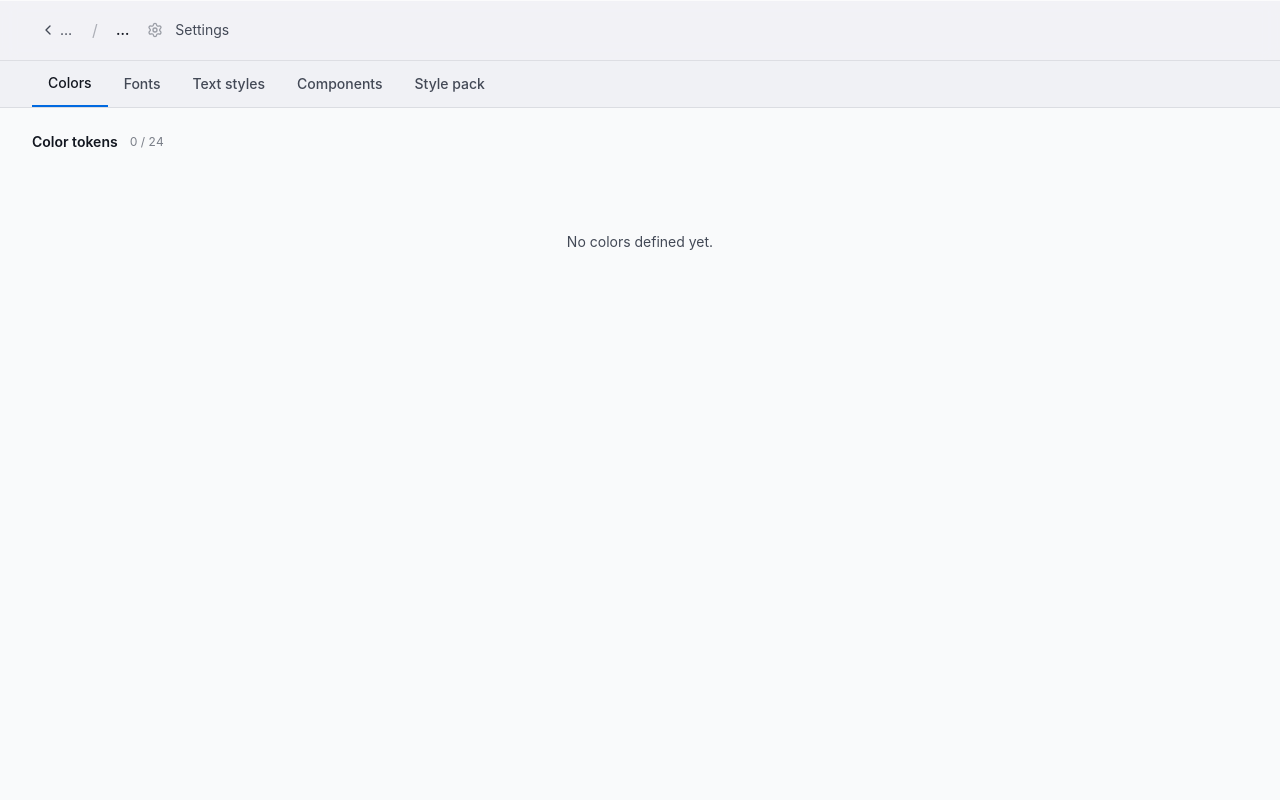
it: FolderSettings page › creates a text style
Click the tab "Text styles" at (229, 84), box [176,61,281,107]
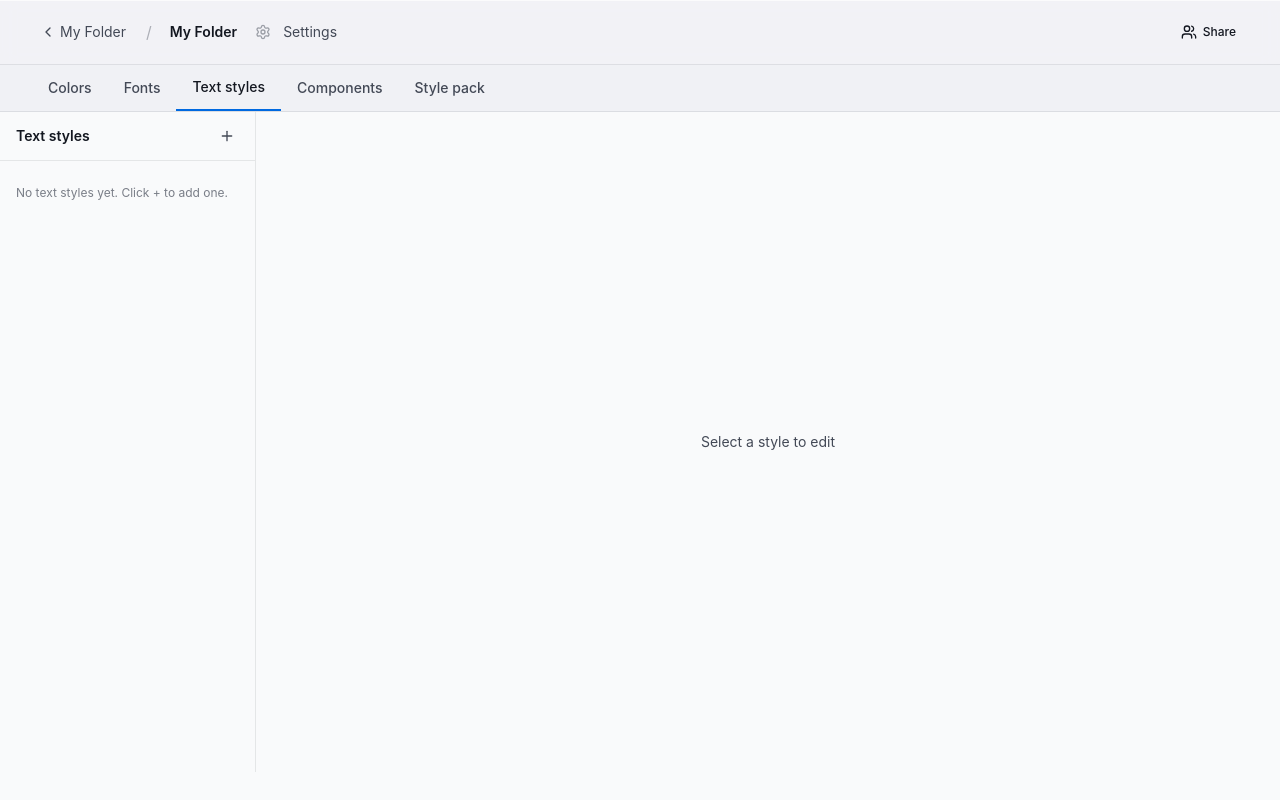
Click the button named "add text style" at (227, 136), box [215,124,239,148]
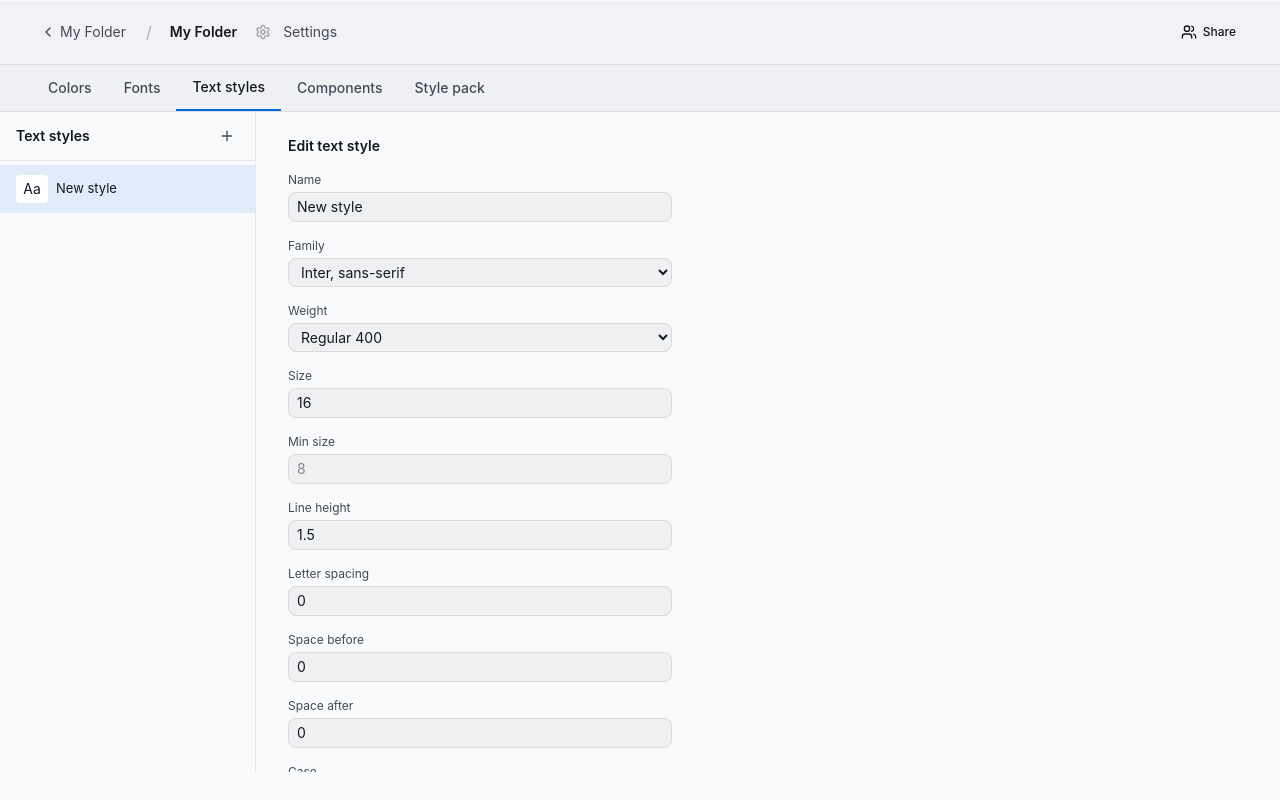
Result: the text "New style" is shown at [56,180,117,196]
